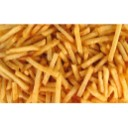frenchfries: (1, 25, 128, 103)
